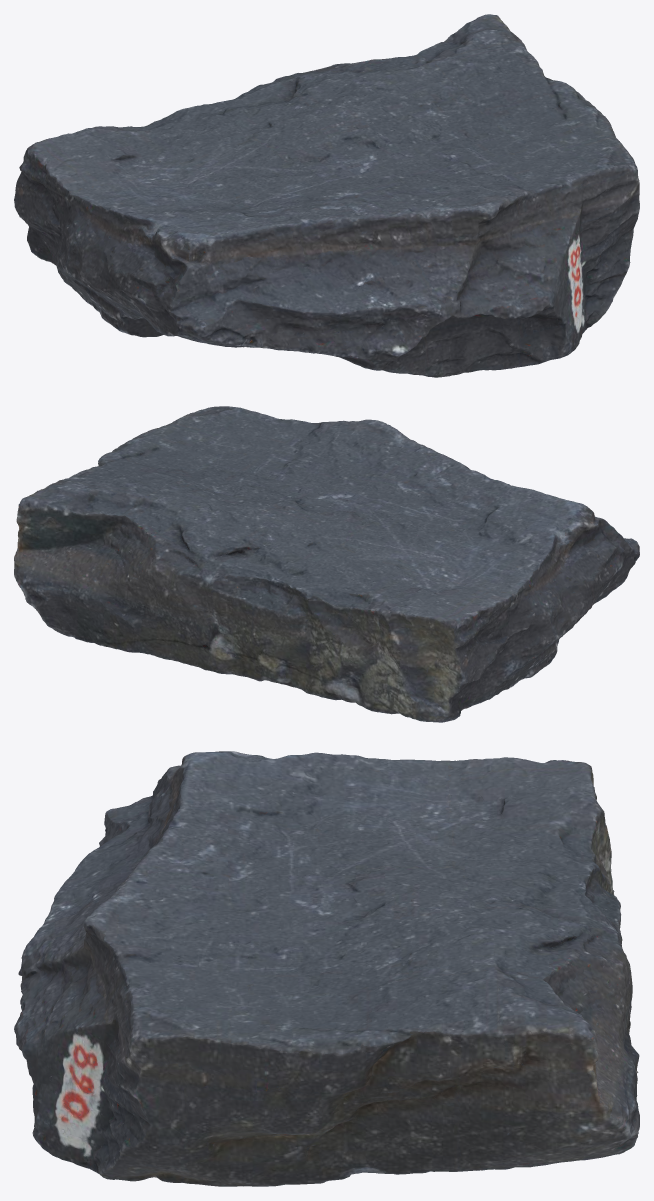
The model's file is phyllite.glb.
The picture shows the model from 3 angles, top to bottom: view 1: azimuth 30°, elevation 25°; view 2: azimuth 150°, elevation 25°; view 3: azimuth 270°, elevation 25°; orthographic projection. The views are drawn at different scales.
Visible parts, largest first — view 1: Object_2; view 2: Object_2; view 3: Object_2.
Boxes of the visible parts, left/top/right/bottom form: Object_2: left=14, top=14, right=639, bottom=377; Object_2: left=14, top=406, right=639, bottom=722; Object_2: left=14, top=751, right=639, bottom=1186.
Size of the model in its own units: 0.11 by 0.0336 by 0.0904.
Materials: 1 (1 with a texture image).
